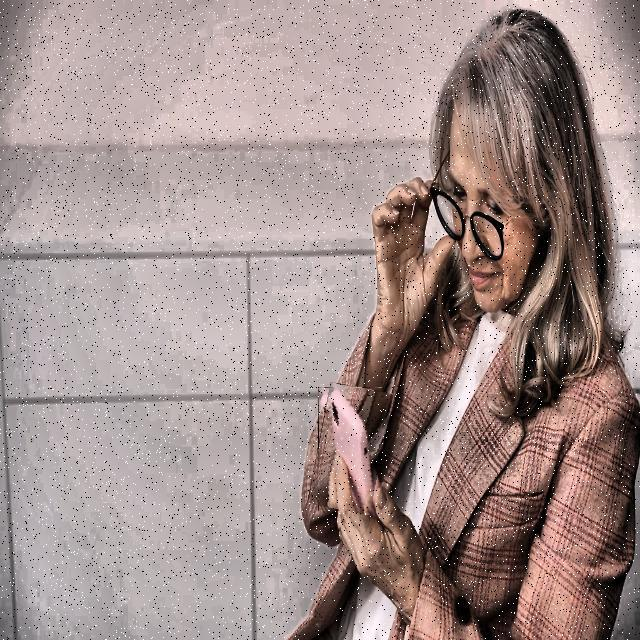Phone: (312, 384, 388, 514)
